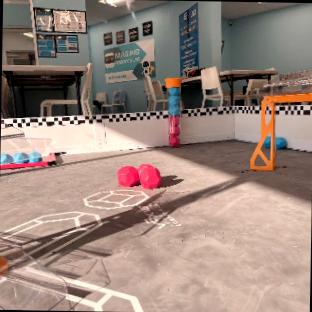V5_BLUE: (275, 136, 285, 148), (263, 136, 269, 145)
V5_RED: (117, 164, 159, 188), (168, 115, 179, 146)
